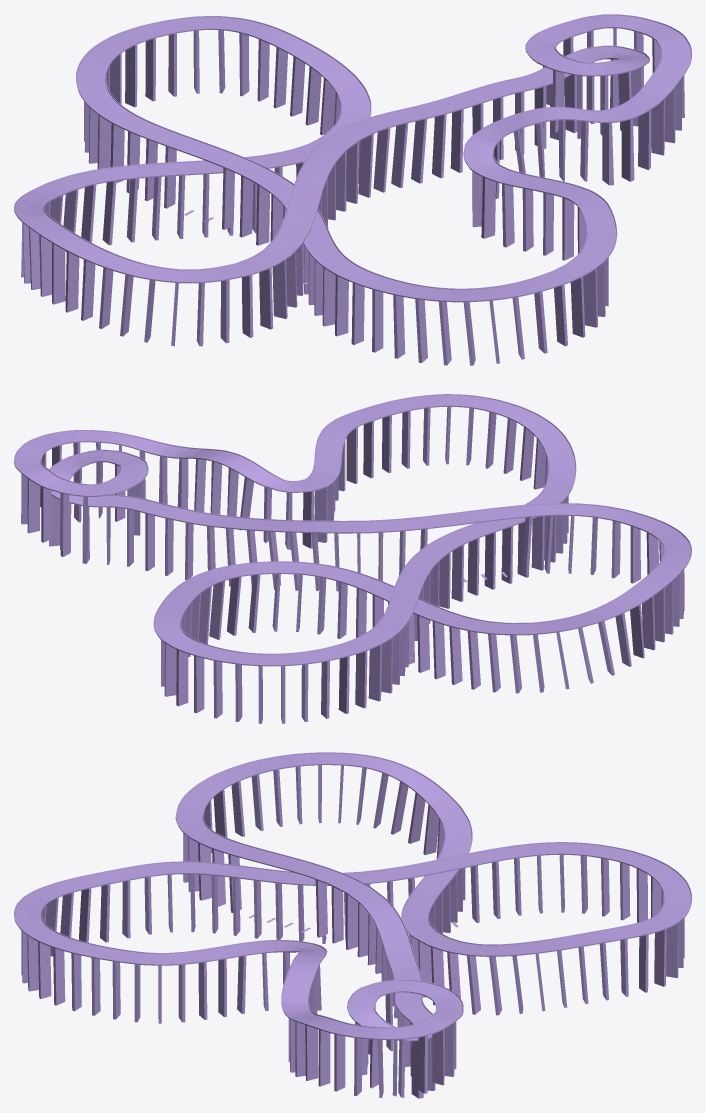
The model's file is paristrack7.fbx.
3 views of the same model, one above another, from view 1: azimuth 30°, elevation 25°; view 2: azimuth 150°, elevation 25°; view 3: azimuth 270°, elevation 25° (orthographic). The views are drawn at different scales.
Visible parts, largest first — view 1: Plane; view 2: Plane; view 3: Plane.
Part boxes in pixels (box(x1,y1,x2,y2)): Plane: box(14, 14, 691, 365); Plane: box(14, 394, 691, 723); Plane: box(14, 752, 691, 1098).
Size of the model in its own units: 21663 by 3490 by 20669.
